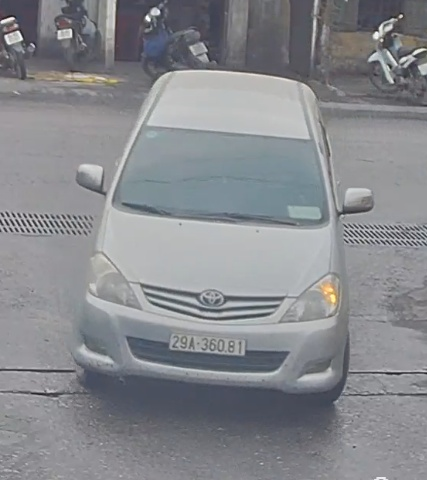vehicle plate: (170, 328, 251, 356)
